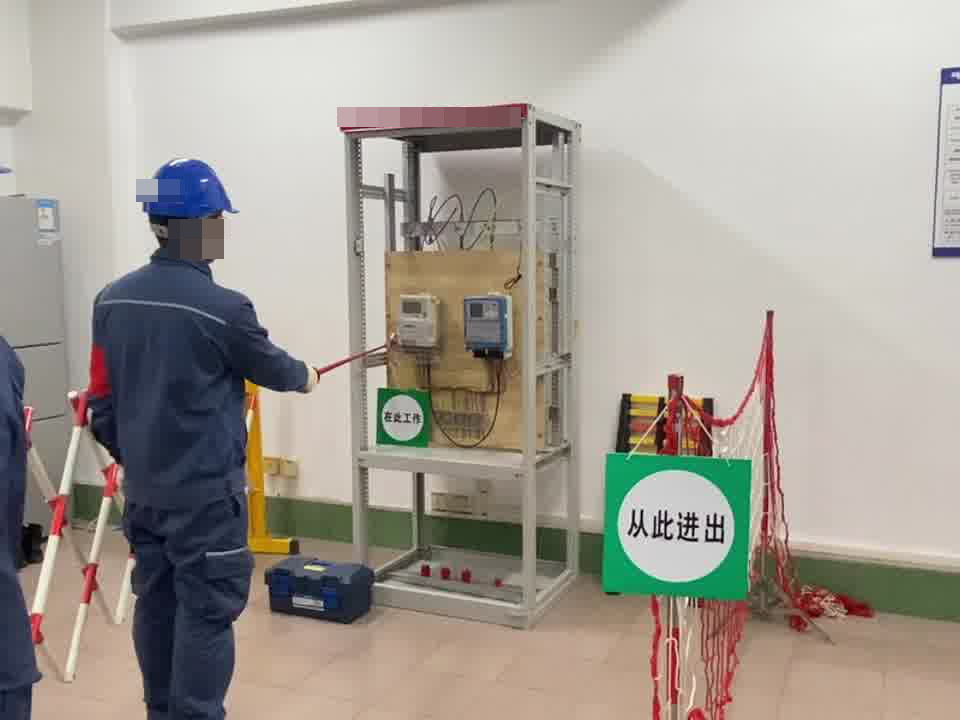badge: (85, 343, 114, 402)
downsuit: (123, 499, 251, 720)
halt: (145, 158, 239, 260)
inear: (194, 214, 220, 255)
intosign: (603, 450, 752, 597)
person: (75, 153, 315, 720)
testrod: (316, 343, 389, 387)
upsuit: (88, 255, 310, 485)
wglove: (301, 361, 326, 395)
worksign: (375, 386, 427, 448)
